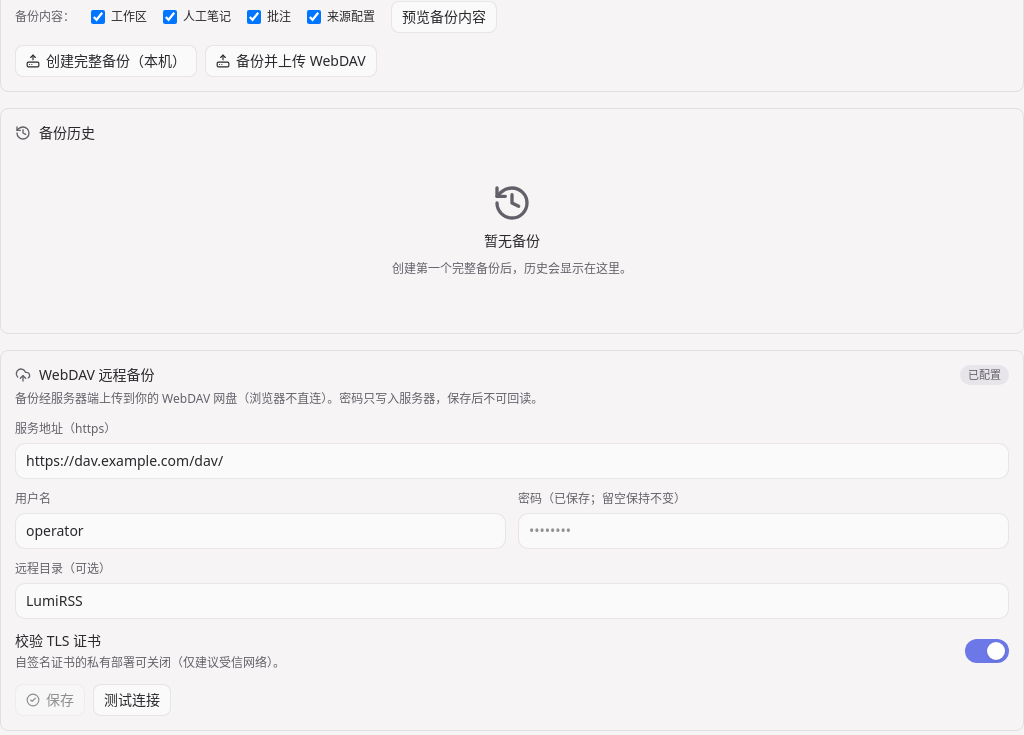
Scenario: 0018 WebDAV 写只读 › 测试连接：成功与失败结果都如实展示
(page scrolled)
Click the button "测试连接": (132, 700) [93,684,171,716]
(page scrolled)
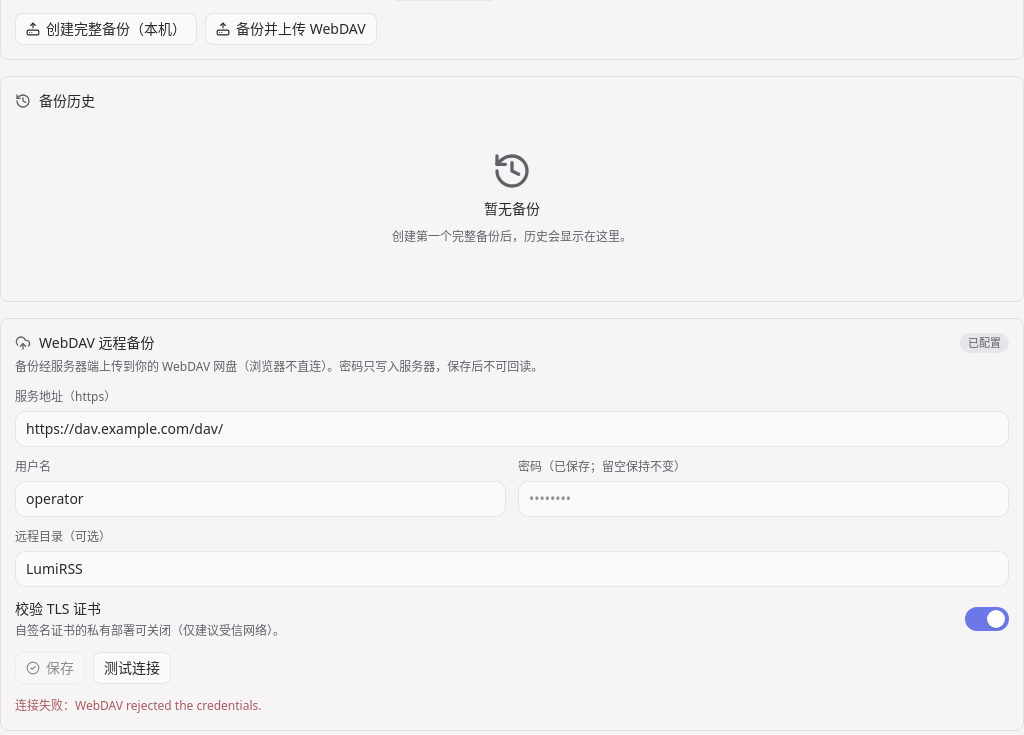
expect the text "连接失败：WebDAV rejected the credentials." is shown: met, box [15,697,262,714]
